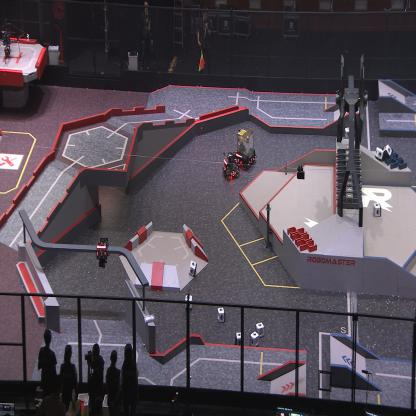car: (234, 126, 257, 170), (222, 150, 242, 181)
